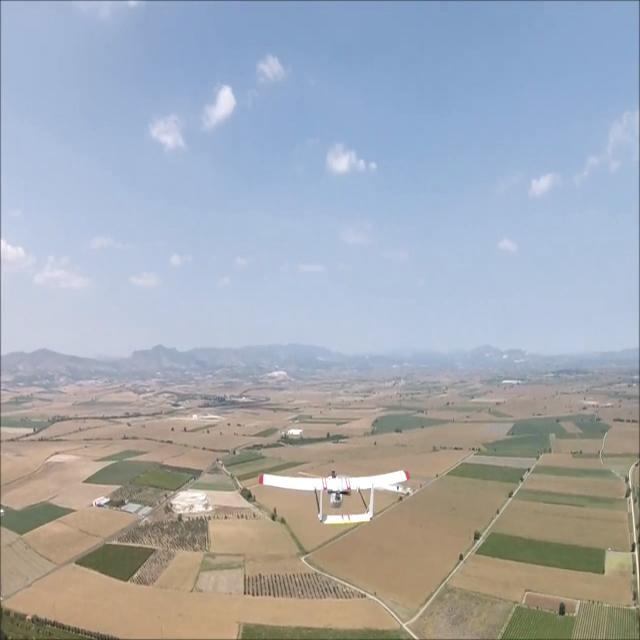iha: (260, 498, 415, 501)
